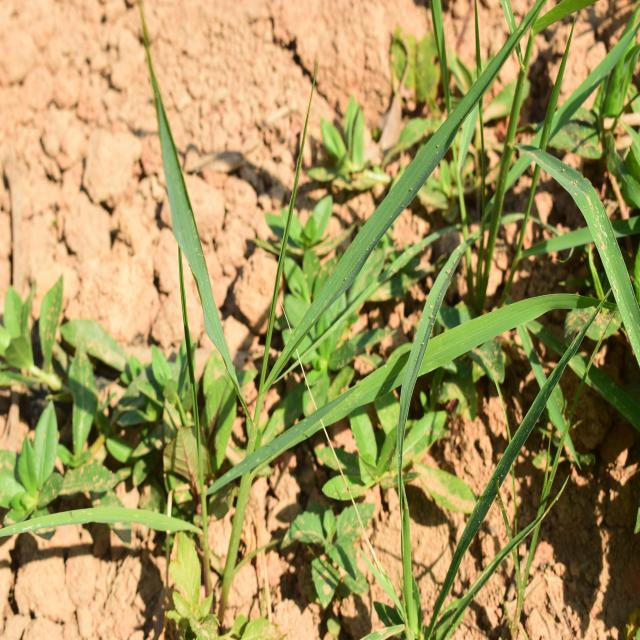green_foxtail: (147, 51, 557, 519)
